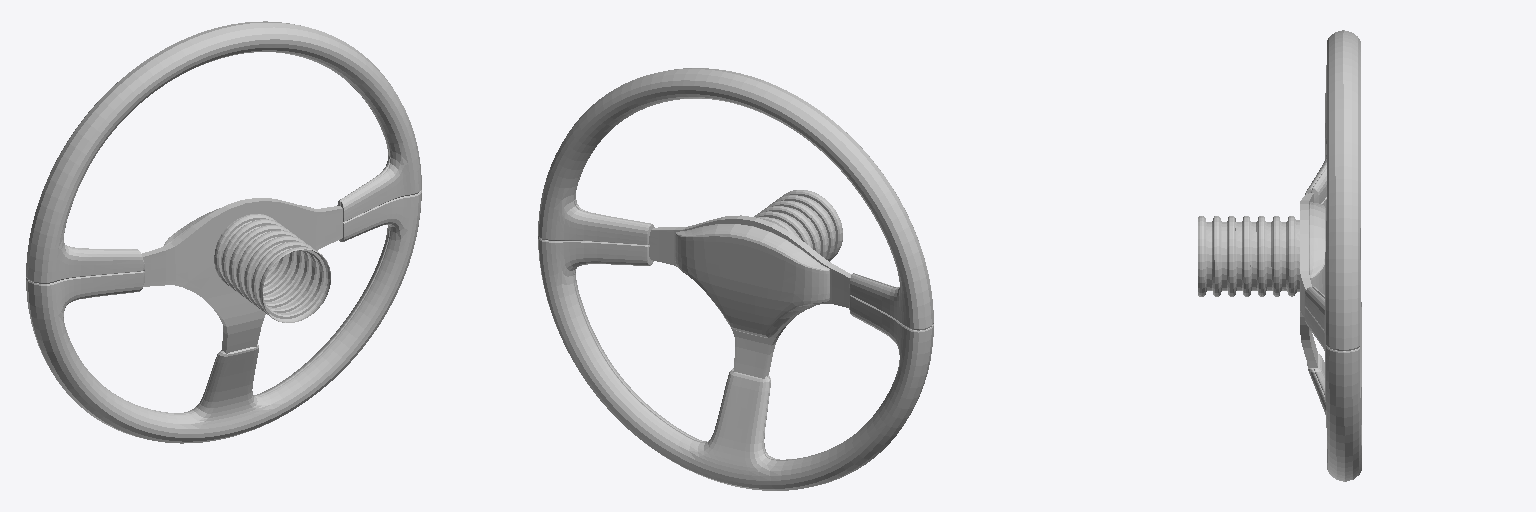
The model's file is steeringwheel.obj.
The picture shows the model from 3 angles: view 1: azimuth 30°, elevation 25°; view 2: azimuth 150°, elevation 25°; view 3: azimuth 270°, elevation 25°; orthographic projection.
Visible parts, largest first — view 1: SteeringWheel.001; view 2: SteeringWheel.001; view 3: SteeringWheel.001.
Boxes of the visible parts, box(x1,y1,x2,y2) form: SteeringWheel.001: box(26, 21, 421, 443); SteeringWheel.001: box(538, 68, 933, 490); SteeringWheel.001: box(1198, 30, 1361, 481).
Size of the model in its own units: 0.3438 by 0.3434 by 0.1243.